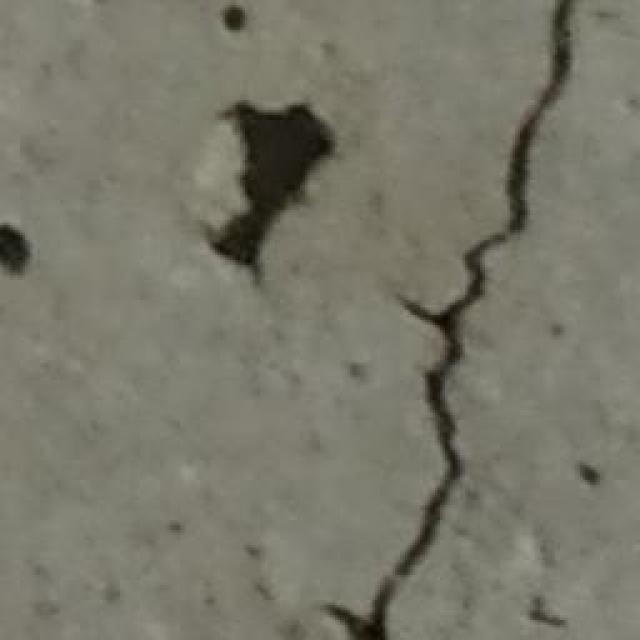Annular: (210, 92, 340, 278), (1, 218, 39, 282), (218, 4, 257, 39)
Network: (342, 0, 596, 640)
